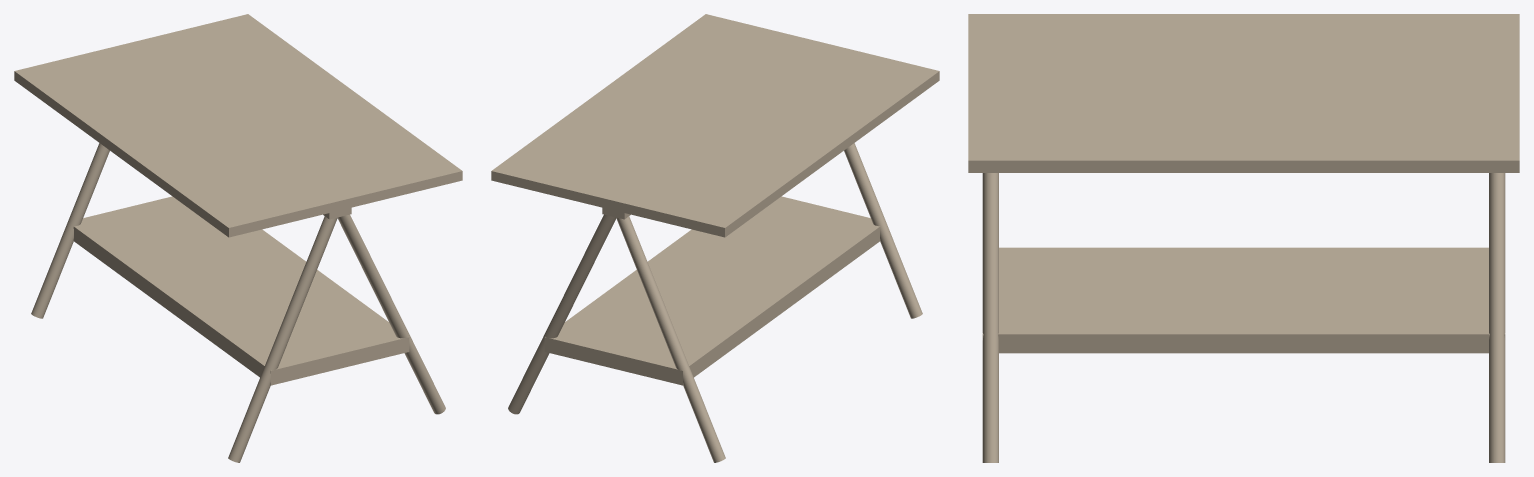
The model's file is 3dcodebench_SimpleDesk_seed0_L4_Q0__opus55.glb.
3 renders of one model, left to right at view 1: azimuth 30°, elevation 25°; view 2: azimuth 150°, elevation 25°; view 3: azimuth 270°, elevation 25°, orthographic. The views are drawn at different scales.
Parts seen in each view (by area): view 1: object; view 2: object; view 3: object.
Part boxes in pixels (x1,y1,x2,y2): object: (14, 14, 462, 462); object: (491, 14, 939, 462); object: (968, 14, 1519, 462).
Size of the model in its own units: 0.7452 by 0.7447 by 1.18.
